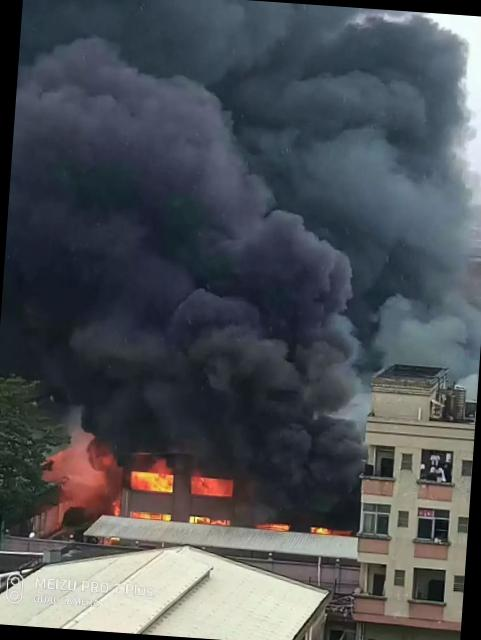fire: (128, 469, 173, 493), (189, 475, 233, 496), (186, 514, 230, 526), (130, 508, 169, 520), (254, 520, 288, 530), (309, 526, 330, 536), (109, 497, 120, 514)
